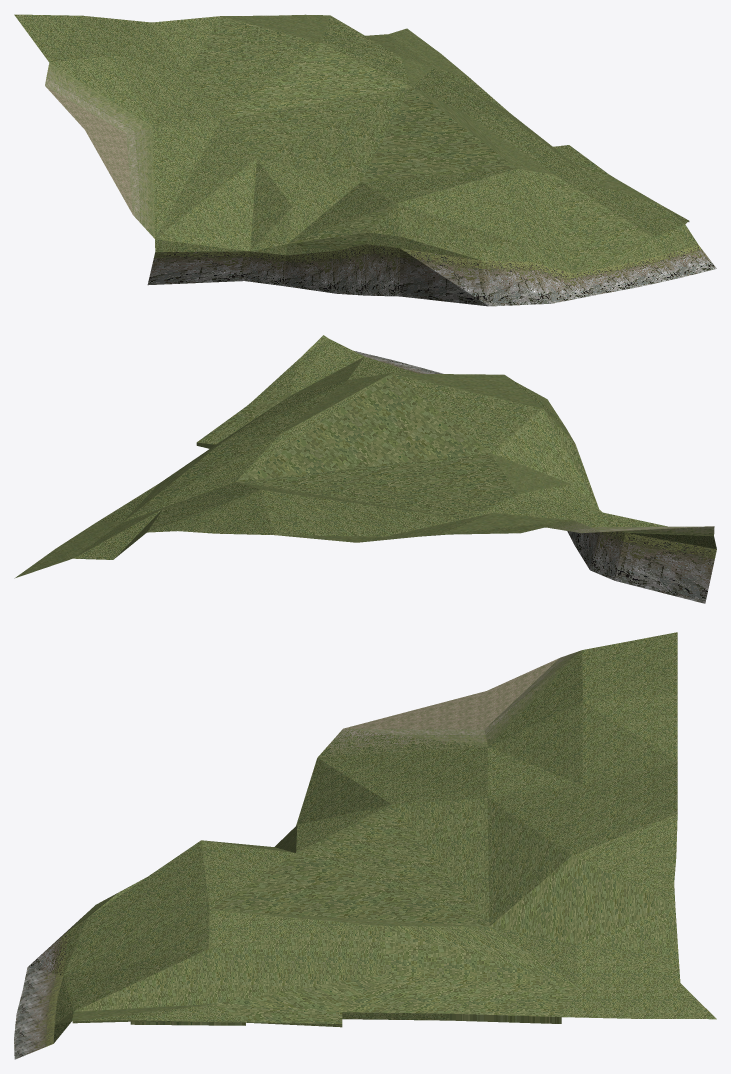
Rendered from lod_sfshill11_sfs.obj.
3 views of the same model, one above another, from view 1: azimuth 30°, elevation 25°; view 2: azimuth 150°, elevation 25°; view 3: azimuth 270°, elevation 25° (orthographic). The views are drawn at different scales.
Visible parts, largest first — view 1: lod_sfshill11_SFS; view 2: lod_sfshill11_SFS; view 3: lod_sfshill11_SFS.
Part boxes in pixels (x1=…): lod_sfshill11_SFS: x1=14, y1=14, x2=716, y2=306; lod_sfshill11_SFS: x1=14, y1=335, x2=716, y2=603; lod_sfshill11_SFS: x1=14, y1=632, x2=716, y2=1059.
Size of the model in its own units: 202 by 77.2 by 232.
4 materials, 4 textured.
